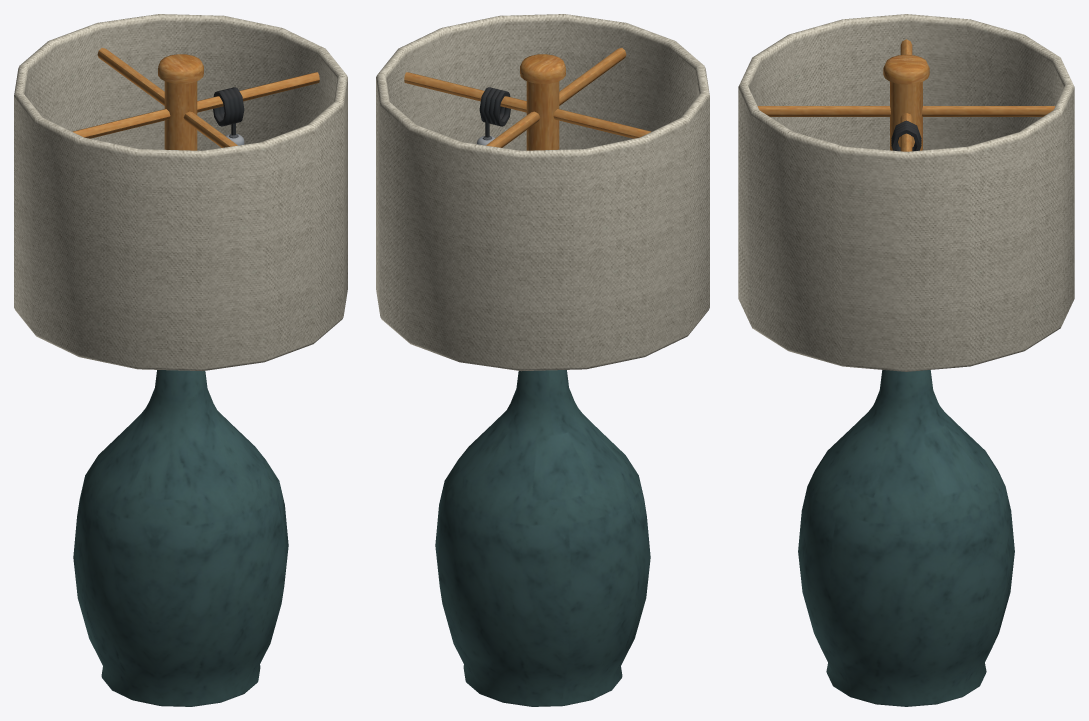
File: Lamp.obj
3 views of the same model, side by side, from view 1: azimuth 30°, elevation 25°; view 2: azimuth 150°, elevation 25°; view 3: azimuth 270°, elevation 25° (orthographic).
Parts seen in each view (by area): view 1: Cylinder; view 2: Cylinder; view 3: Cylinder.
Boxes of the visible parts, box(x1,y1,x2,y2) form: Cylinder: box(14, 14, 347, 706); Cylinder: box(376, 14, 709, 706); Cylinder: box(738, 14, 1074, 706).
Bounding box in the file's own units: 3.21 × 6.45 × 3.21.
